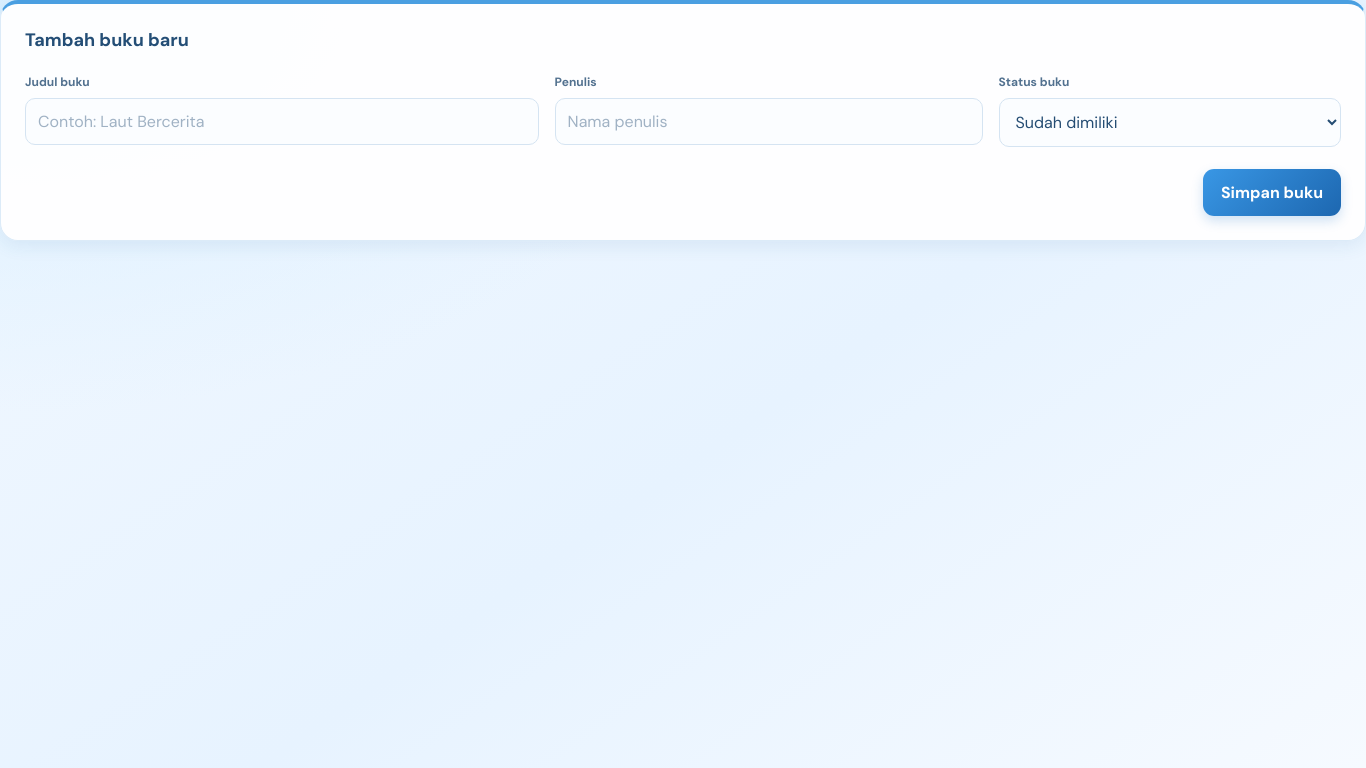
Scenario: BookForm › memberi pesan saat judul dan penulis kosong
The image size is (1366, 768).
Click the button "Simpan buku" at (1272, 192), box [1203, 169, 1341, 216]
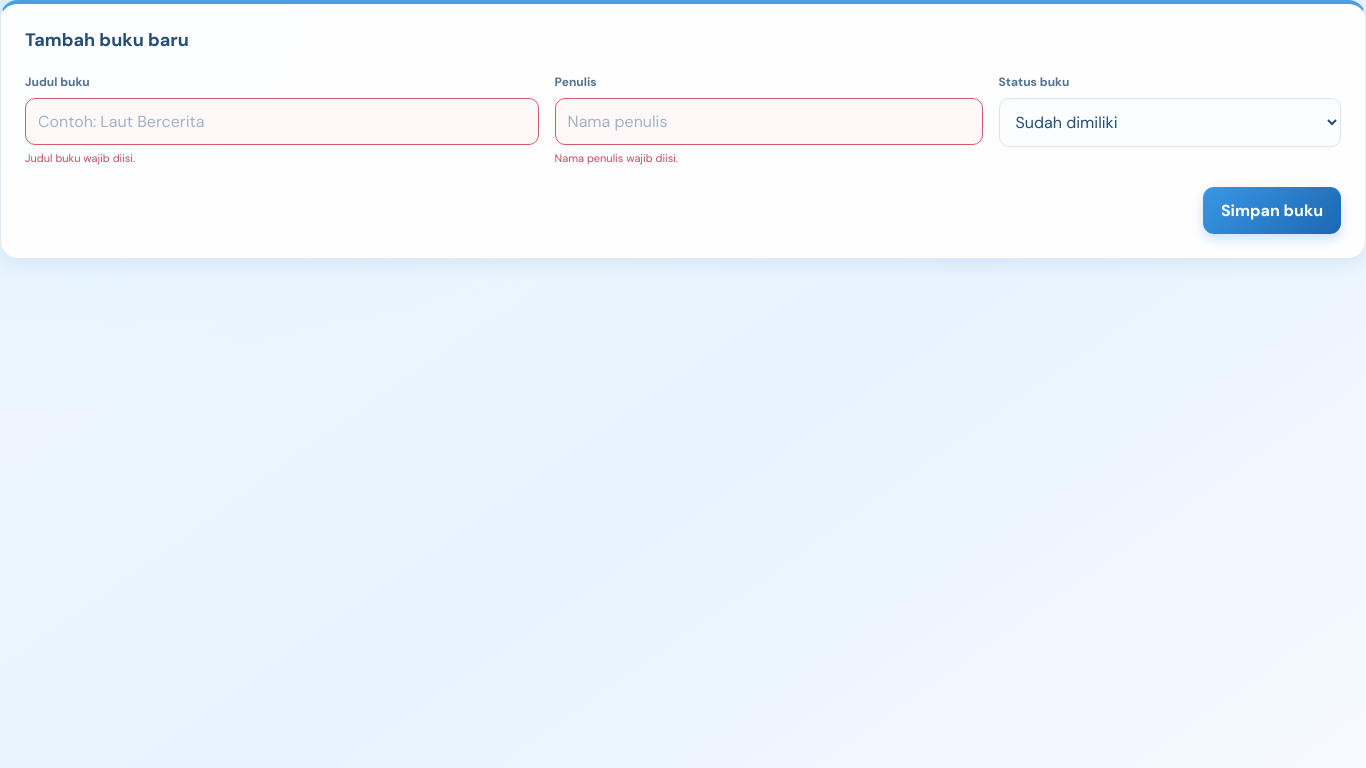
Expected: the text "Judul buku wajib diisi." is shown, [25, 151, 135, 165]
Expected: the text "Nama penulis wajib diisi." is shown, [555, 151, 678, 165]
